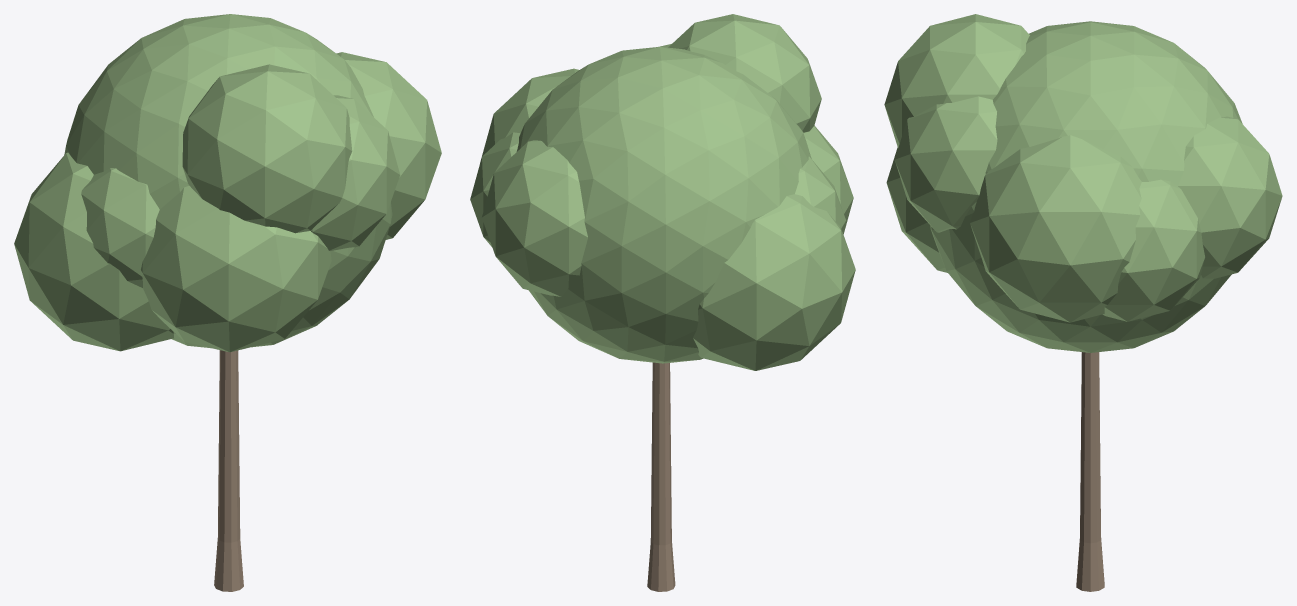
File: tree.glb
The picture shows the model from 3 angles, left to right: view 1: azimuth 30°, elevation 25°; view 2: azimuth 150°, elevation 25°; view 3: azimuth 270°, elevation 25°; orthographic projection. The views are drawn at different scales.
Visible parts, largest first — view 1: tree_leaf, tree_bark; view 2: tree_leaf, tree_bark; view 3: tree_leaf, tree_bark.
Part boxes in pixels (bbox=[...]): tree_leaf: bbox=[14, 14, 441, 352]; tree_bark: bbox=[214, 350, 243, 591]; tree_leaf: bbox=[470, 14, 855, 370]; tree_bark: bbox=[647, 362, 675, 591]; tree_leaf: bbox=[884, 14, 1282, 352]; tree_bark: bbox=[1076, 352, 1104, 591].
Bounding box in the file's own units: 4.73 × 6.59 × 4.29.
